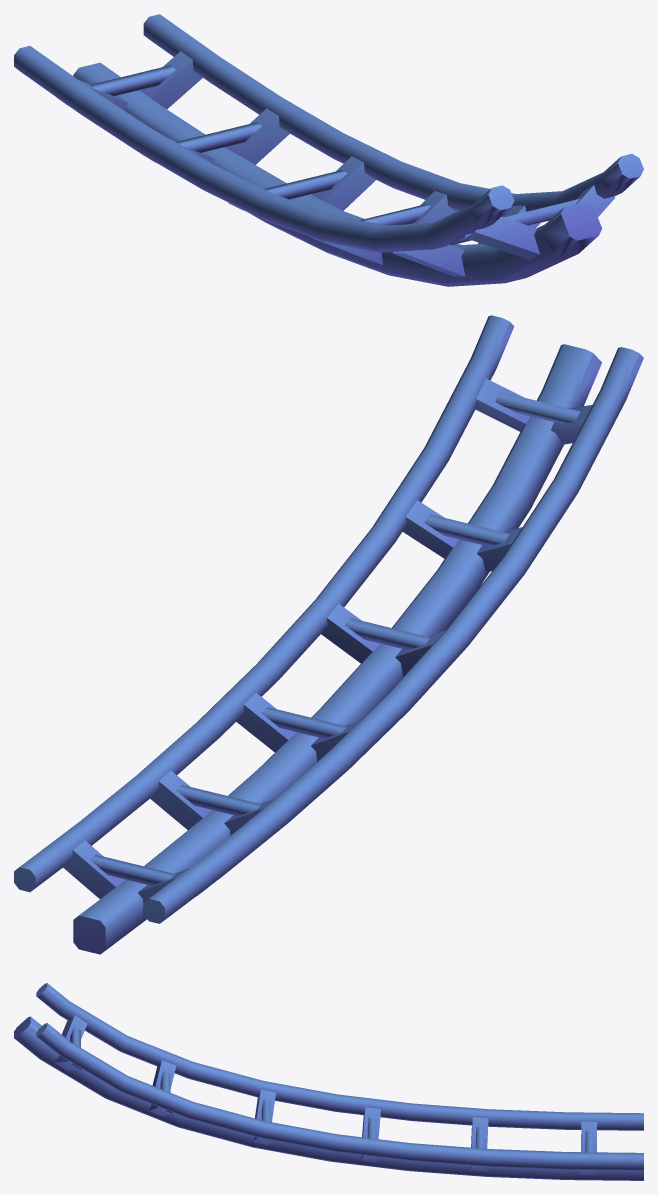
The model's file is coaster-steel-straight-hill-beginning.glb.
3 views of the same model, one above another, from view 1: azimuth 30°, elevation 25°; view 2: azimuth 150°, elevation 25°; view 3: azimuth 270°, elevation 25° (orthographic). The views are drawn at different scales.
Visible parts, largest first — view 1: coaster-steel-straight-hill-beginning; view 2: coaster-steel-straight-hill-beginning; view 3: coaster-steel-straight-hill-beginning.
Boxes of the visible parts, <box> form: coaster-steel-straight-hill-beginning: <box>14,14,643,286</box>; coaster-steel-straight-hill-beginning: <box>14,315,643,954</box>; coaster-steel-straight-hill-beginning: <box>14,983,643,1180</box>.
Size of the model in its own units: 2.1 by 3.64 by 12.
Materials: 1 (1 with a texture image).
